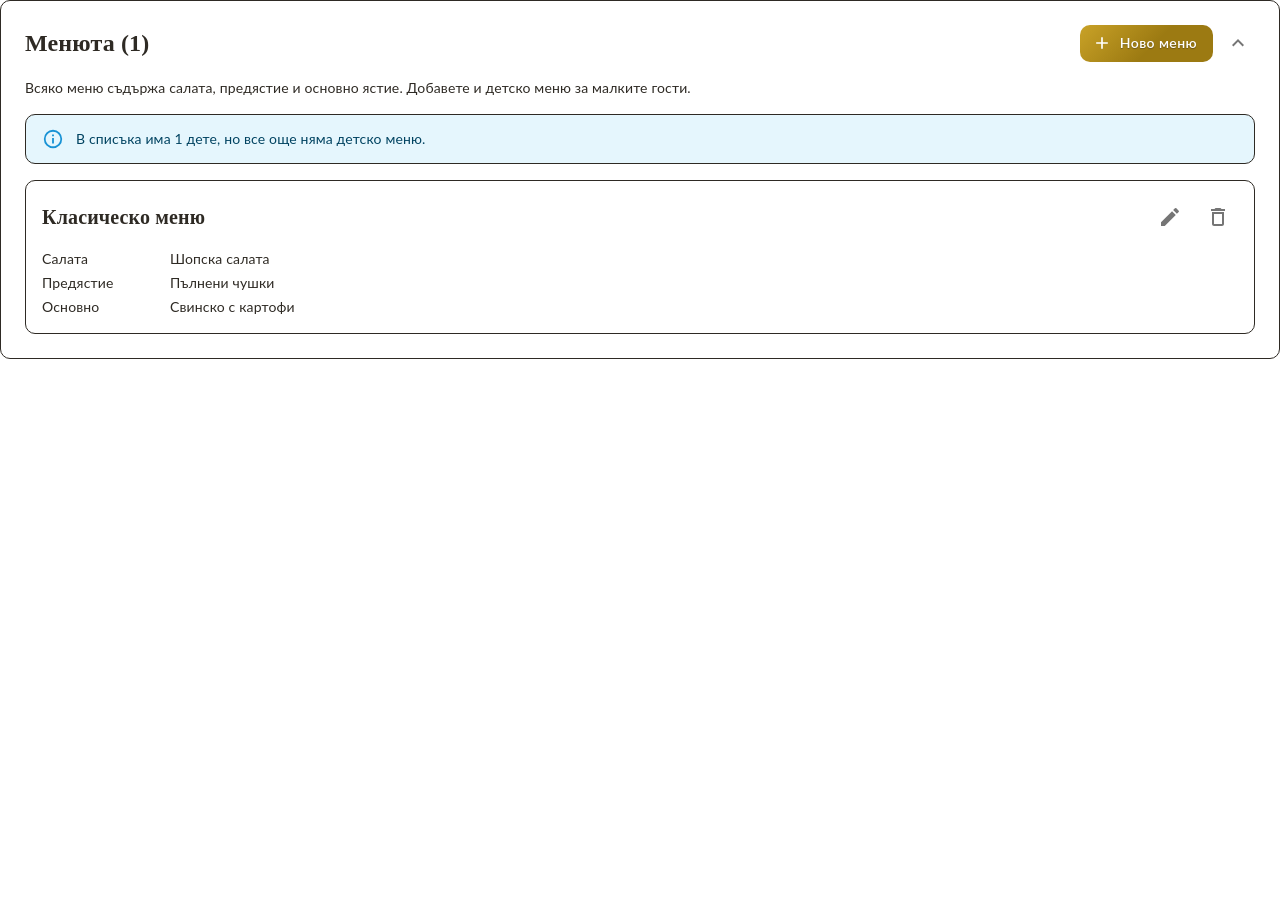
Scenario: MenusPanel › adds a children’s menu after the adults’ ones
Expected: the element "Класическо меню" is shown, [25, 180, 1255, 334]
Click the button "Ново меню" at [1146, 43], box [1080, 25, 1213, 62]
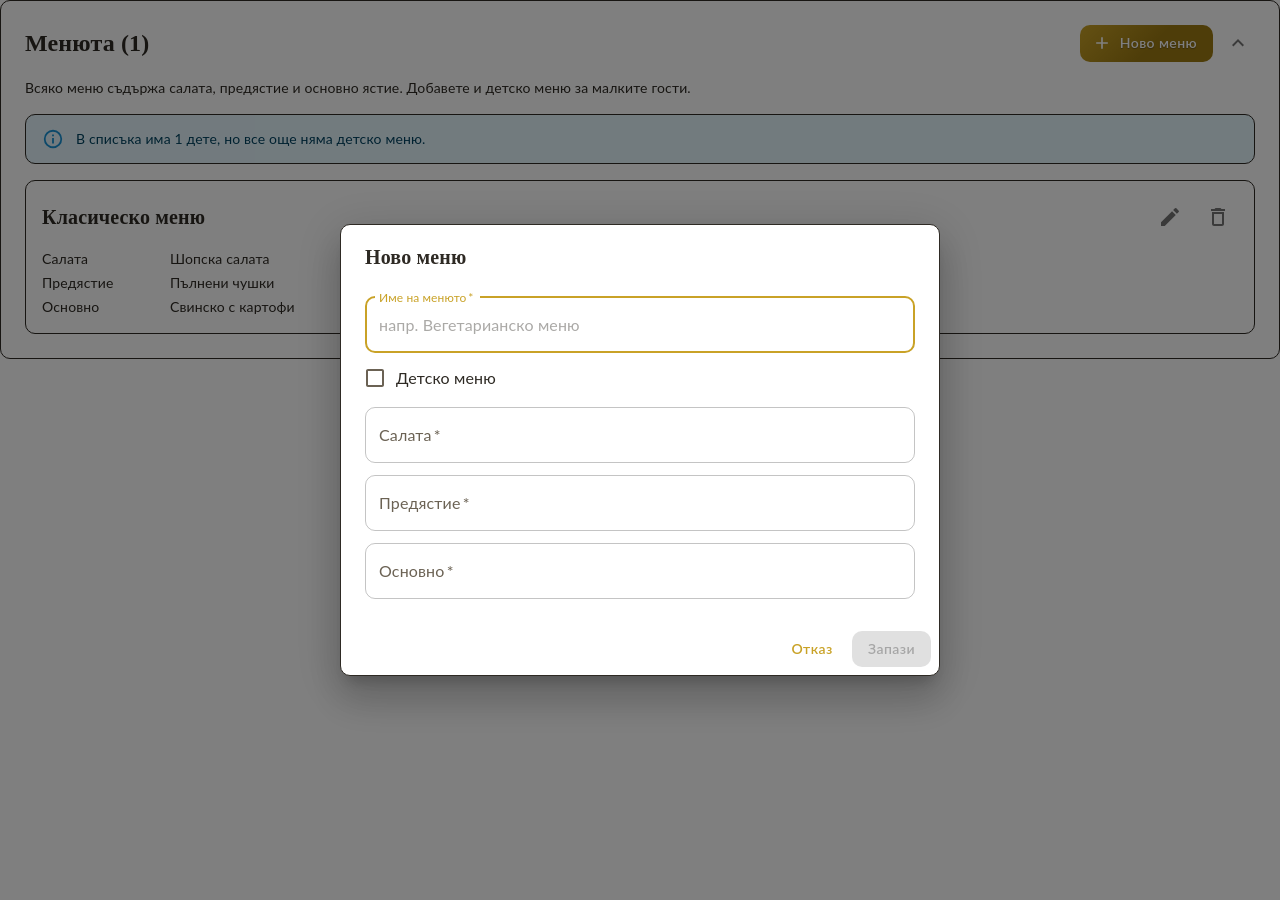
Type "Детско меню" into the field labelled "Име на менюто *" at [640, 325], box [365, 297, 915, 353]
Click the checkbox labelled "Детско меню" at [429, 378], box [363, 366, 496, 390]
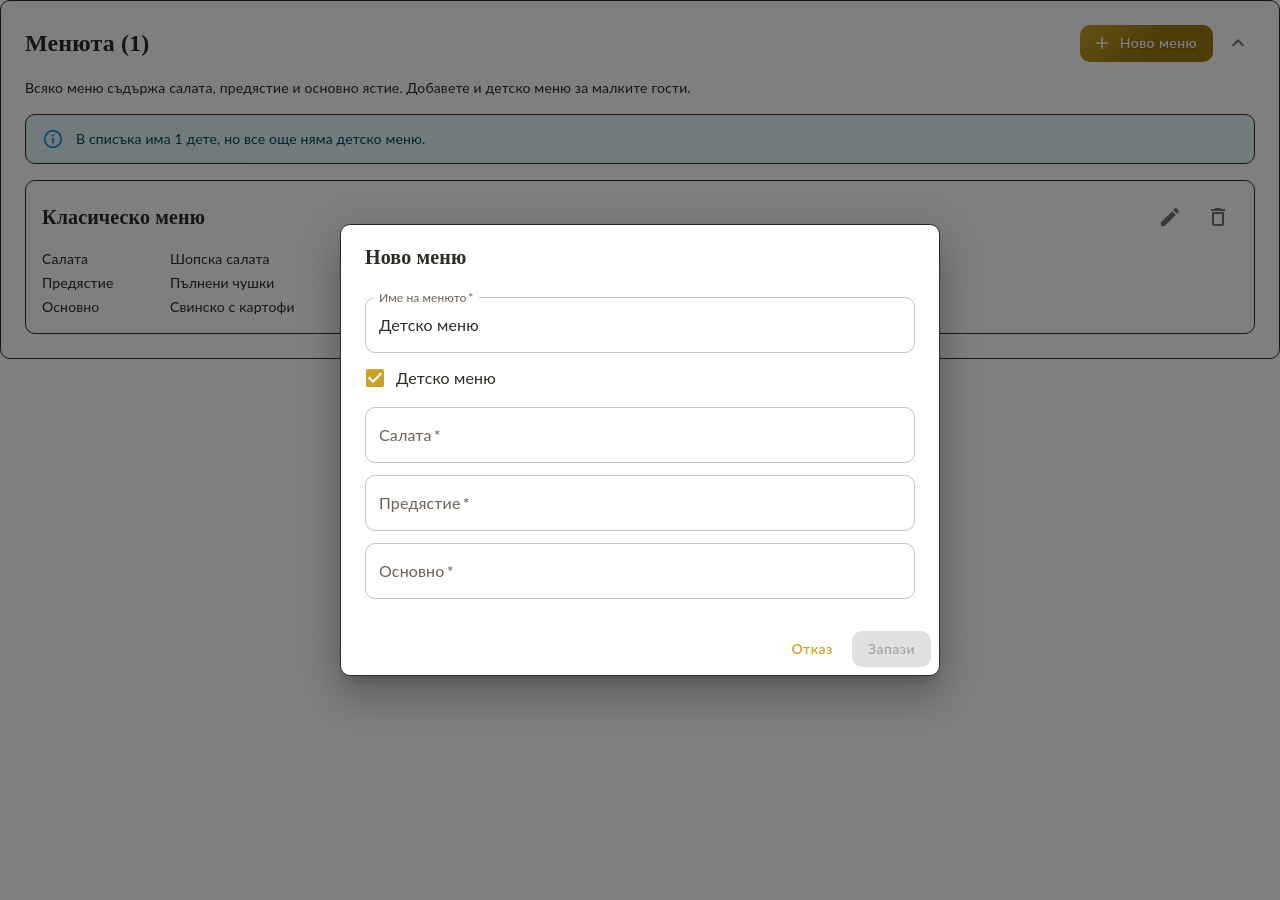
Type "Шопска салата" into the field labelled "Салата *" at [640, 435], box [365, 407, 915, 463]
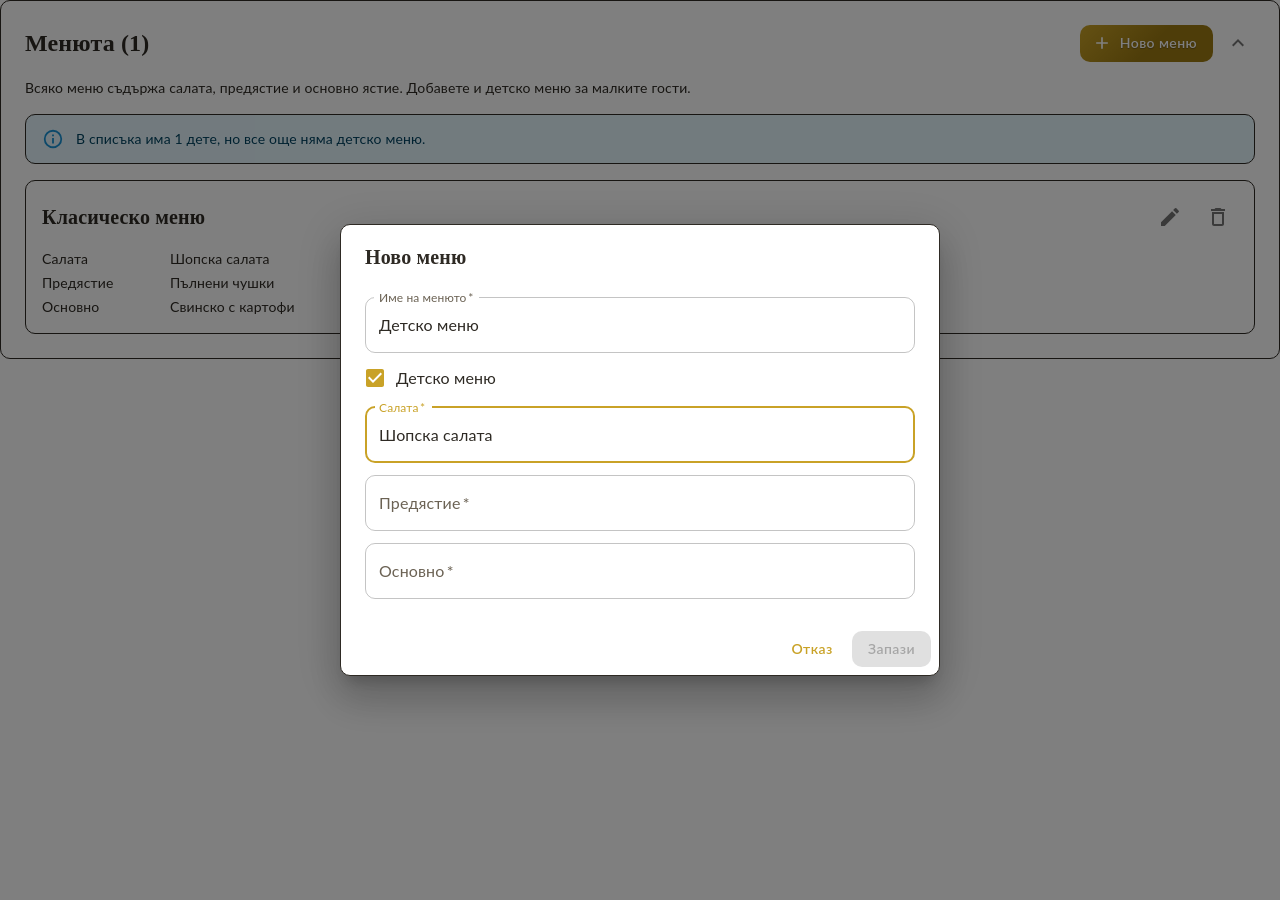
Type "Пълнени чушки" into the field labelled "Предястие *" at [640, 503], box [365, 475, 915, 531]
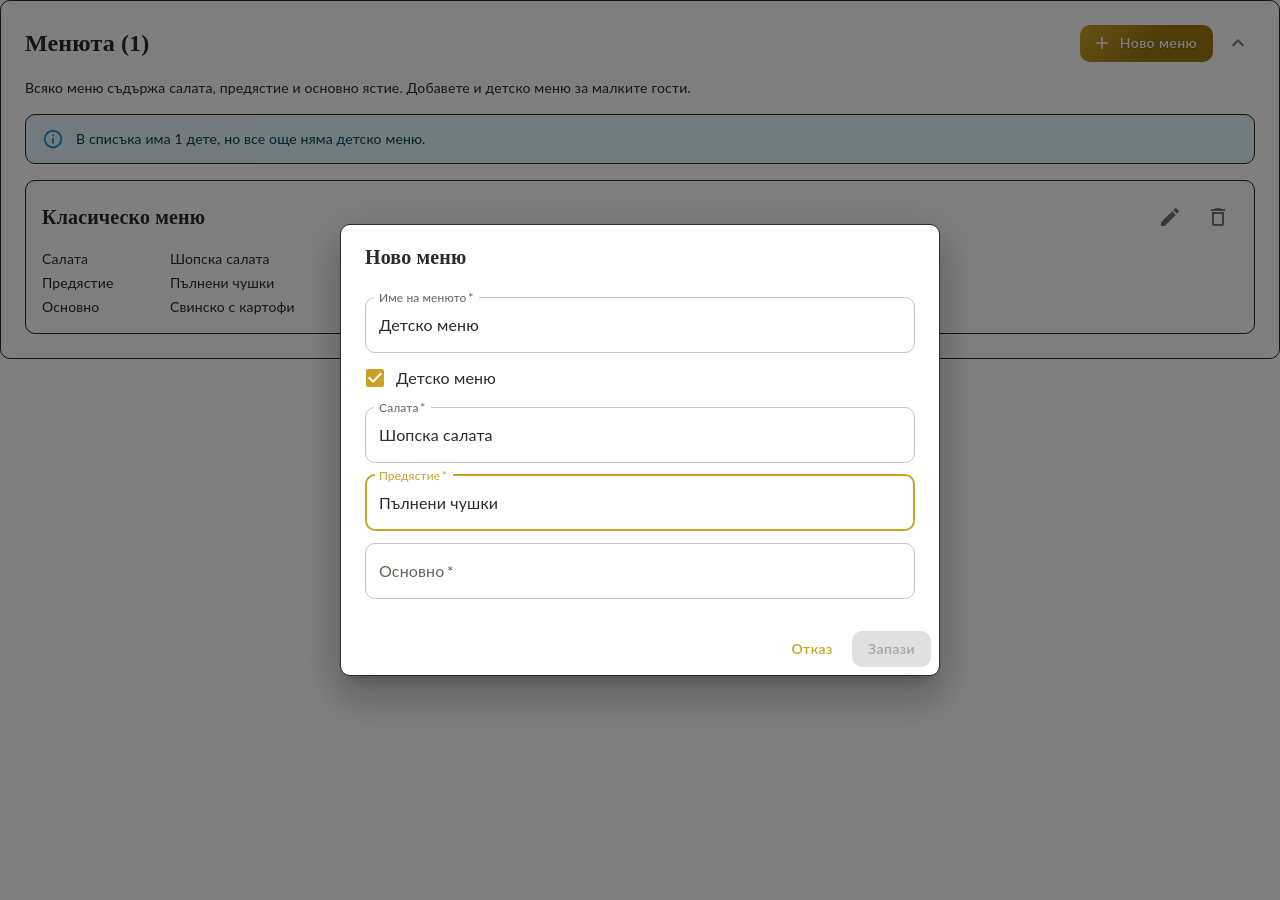
Type "Пилешки хапки" into the field labelled "Основно *" at [640, 571], box [365, 543, 915, 599]
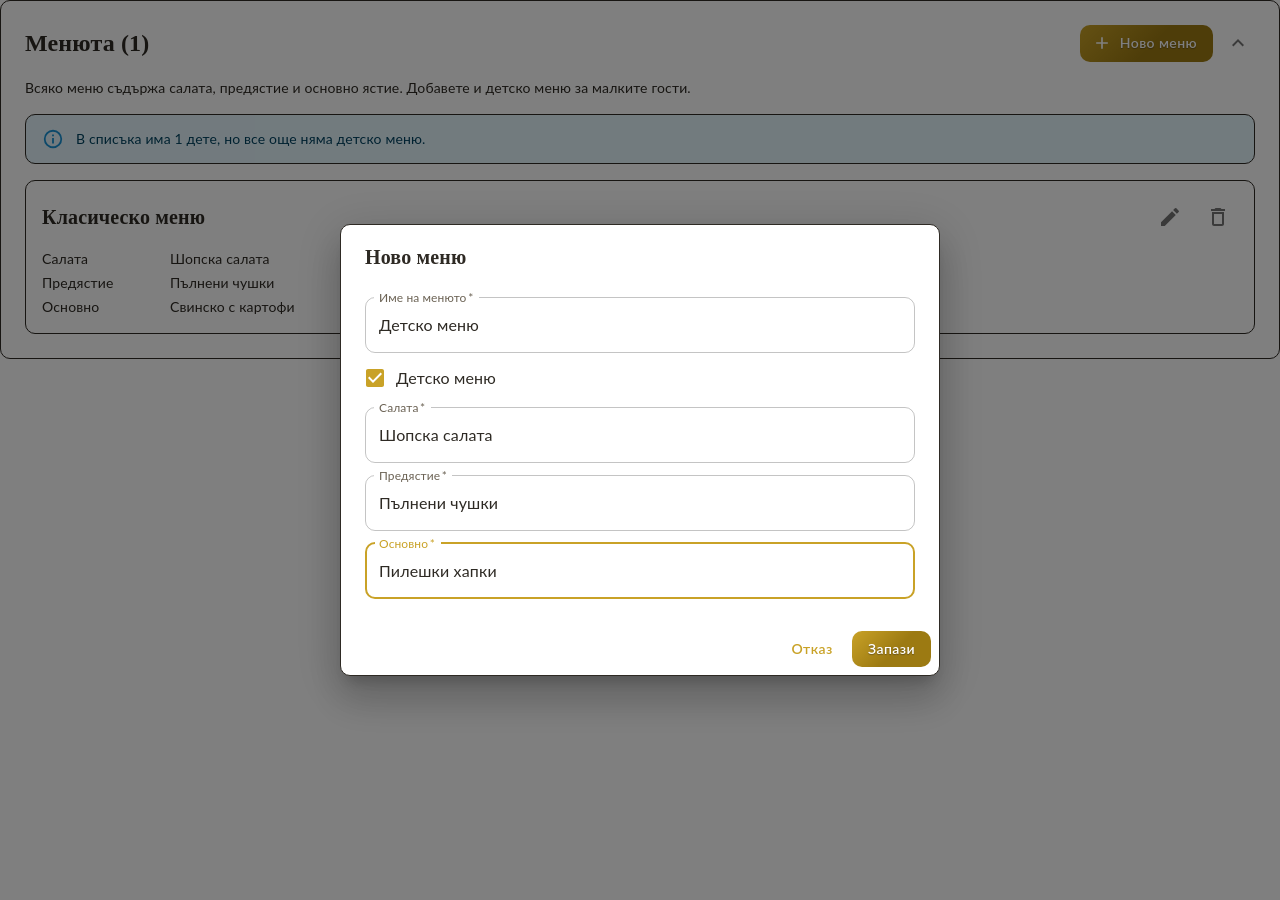
Click the button "Запази" at [892, 649], box [852, 631, 931, 667]
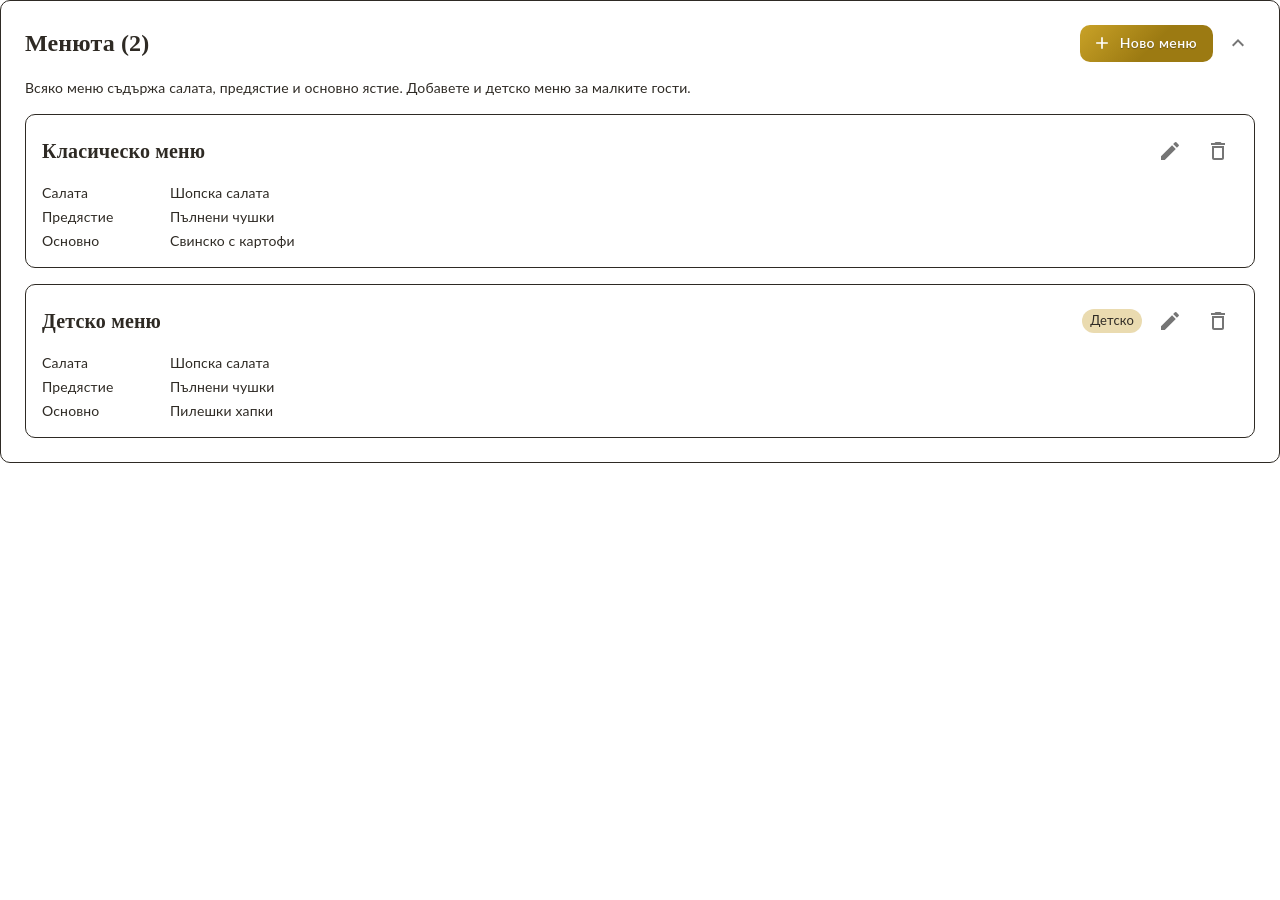
Expected: the text "Детско" is shown, [1090, 312, 1134, 328]
Expected: the text "все още няма детско меню" is gone
